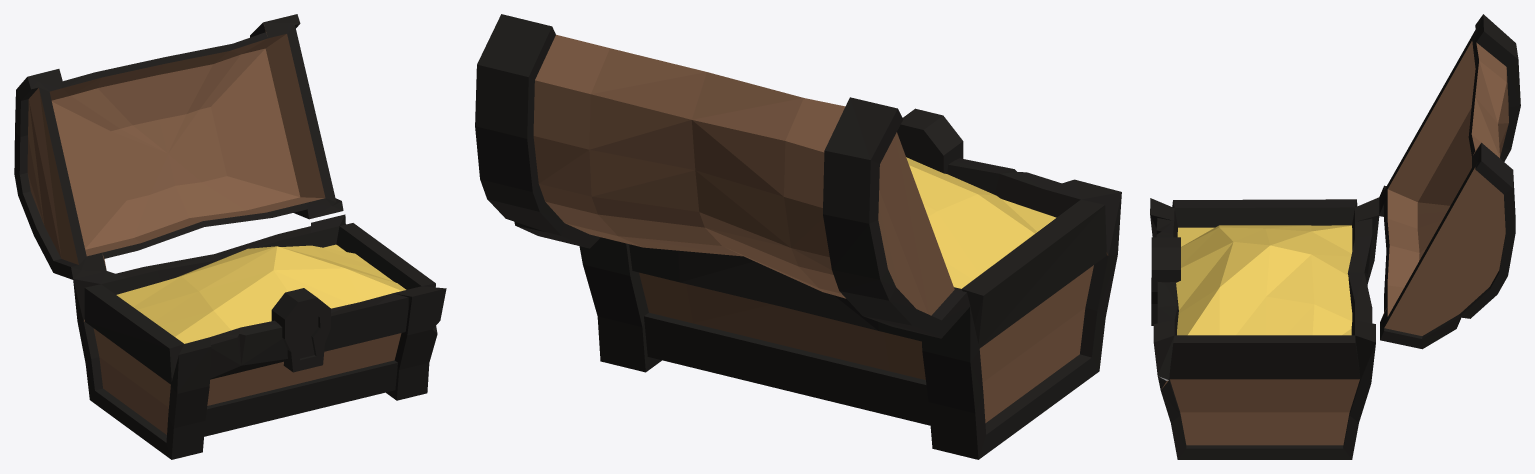
The model's file is Chest_2.fbx.
The picture shows the model from 3 angles, left to right: view 1: azimuth 30°, elevation 25°; view 2: azimuth 150°, elevation 25°; view 3: azimuth 270°, elevation 25°; orthographic projection. The views are drawn at different scales.
Visible parts, largest first — view 1: Chest_2; view 2: Chest_2; view 3: Chest_2.
Boxes of the visible parts, left/top/right/bottom form: Chest_2: left=14, top=14, right=446, bottom=459; Chest_2: left=475, top=14, right=1121, bottom=459; Chest_2: left=1150, top=14, right=1520, bottom=459.
Size of the model in its own units: 56.73 by 55.85 by 60.66.
